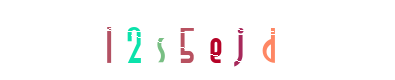2: (113, 0, 193, 80)
5: (157, 0, 237, 80)
D: (225, 0, 305, 80)
E: (175, 0, 255, 80)
J: (175, 0, 255, 80)
L: (94, 0, 174, 80)
S: (139, 0, 219, 80)
